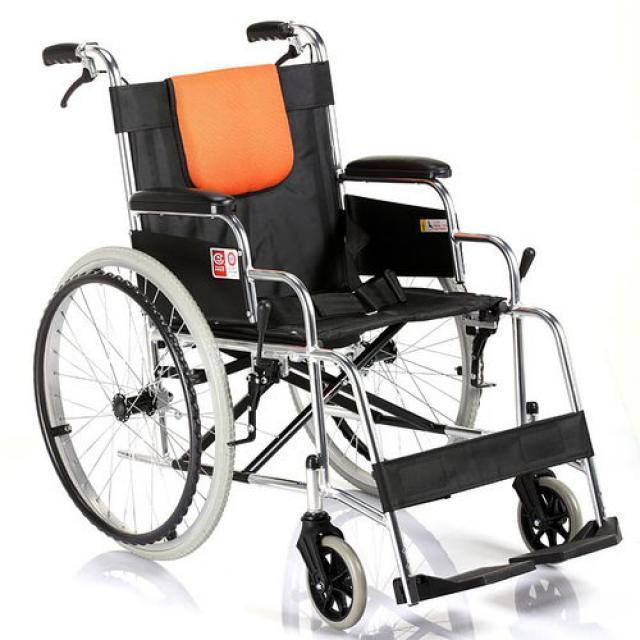wheelchairs: (23, 12, 627, 608)
